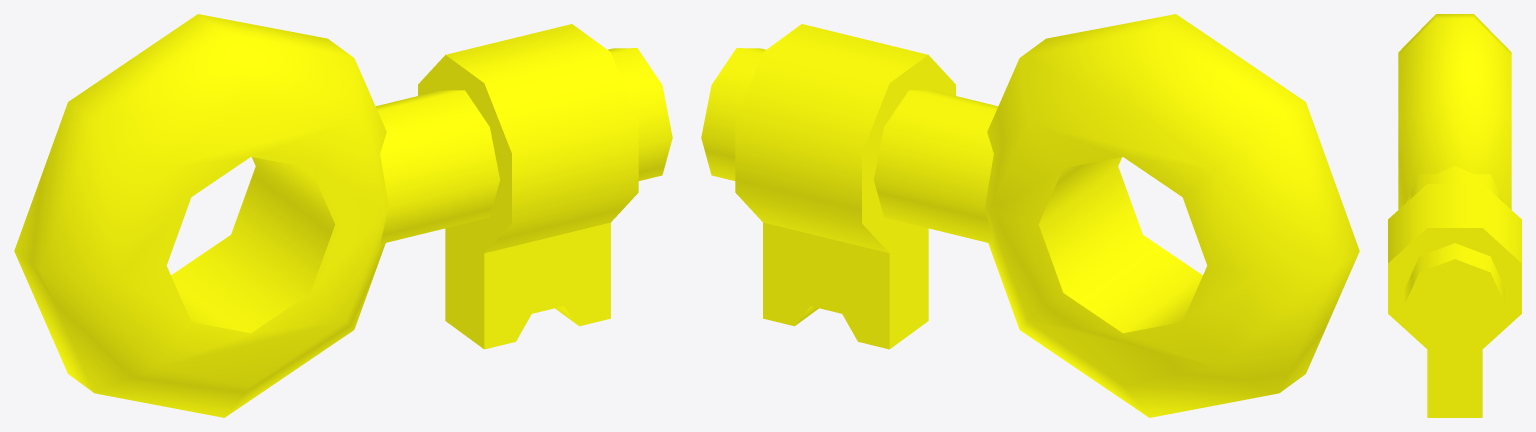
The model's file is 装饰道具_钥匙.glb.
3 renders of one model, left to right at view 1: azimuth 30°, elevation 25°; view 2: azimuth 150°, elevation 25°; view 3: azimuth 270°, elevation 25°, orthographic. The views are drawn at different scales.
Parts seen in each view (by area): view 1: key; view 2: key; view 3: key.
Part boxes in pixels (x1=…): key: x1=14, y1=14, x2=672, y2=417; key: x1=701, y1=14, x2=1359, y2=417; key: x1=1388, y1=14, x2=1521, y2=417.
Size of the model in its own units: 0.591 by 0.356 by 0.1575.
1 material, 1 textured.
